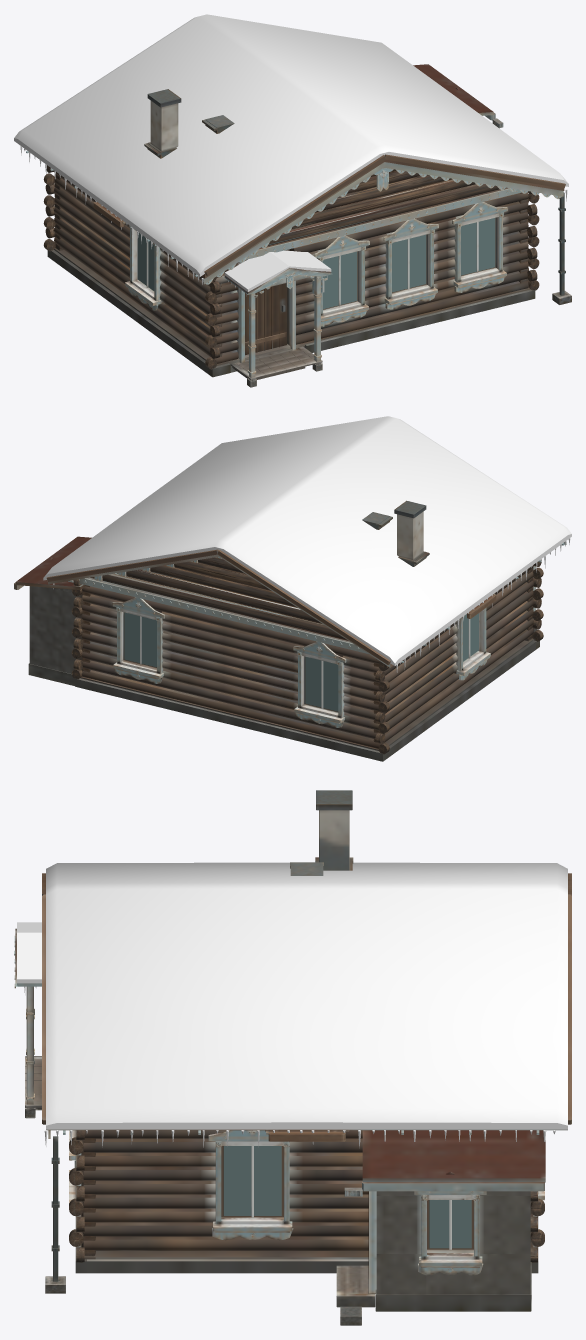
3 views of the same model, one above another, from view 1: azimuth 30°, elevation 25°; view 2: azimuth 150°, elevation 25°; view 3: azimuth 270°, elevation 25° (orthographic). The views are drawn at different scales.
Parts seen in each view (by area): view 1: HeroHouse_RoofSnow_LOD0, HeroHouse_Street_LogCrown, HeroHouse_Left_LogCrown, HeroHouse_PlinthFacing_LOD0, HeroHouse_FrontGableLog00_LOD0, HeroHouse_StreetDoorClosed_LOD0, HeroHouse_FootingCap_LOD0, HeroHouse_PodzorStreet_LOD0, HeroHouse_FrontGableLog01_LOD0, HeroHouse_Street_Window2_Glass_LOD0, HeroHouse_Street_Window3_Glass_LOD0, HeroHouse_Street_Window1_Glass_LOD0 (+21 smaller); view 2: HeroHouse_RoofSnow_LOD0, HeroHouse_Rear_LogCrown, HeroHouse_Left_LogCrown, HeroHouse_PlinthFacing_LOD0, HeroHouse_SeniRear_Wall_LOD0, HeroHouse_BackGableLog00_LOD0, HeroHouse_BackGableLog01_LOD0, HeroHouse_PodzorRear_LOD0, HeroHouse_FootingCap_LOD0, HeroHouse_Rear_Window0_Glass_LOD0, HeroHouse_Rear_Window1_Glass_LOD0, HeroHouse_BackGableLog02_LOD0 (+10 smaller); view 3: HeroHouse_RoofSnow_LOD0, HeroHouse_Right_LogCrown, HeroHouse_SeniOuter_Wall_LOD0, HeroHouse_SeniRoof_LOD0, HeroHouse_PlinthFacing_LOD0, HeroHouse_Right_Window0_Glass_LOD0, HeroHouse_SeniFooting_LOD0, HeroHouse_FootingCap_LOD0, HeroHouse_SeniOuter_Window0_Glass_LOD0, HeroHouse_ChimneyStack_LOD0, HeroHouse_SeniTrough_LOD0, HeroHouse_SeniStep_LOD0 (+9 smaller).
Boxes of the visible parts, x1=… form: HeroHouse_RoofSnow_LOD0: x1=14, y1=14, x2=568, y2=276; HeroHouse_Street_LogCrown: x1=210, y1=187, x2=528, y2=363; HeroHouse_Left_LogCrown: x1=54, y1=170, x2=222, y2=358; HeroHouse_PlinthFacing_LOD0: x1=47, y1=250, x2=535, y2=377; HeroHouse_FrontGableLog00_LOD0: x1=261, y1=184, x2=499, y2=247; HeroHouse_StreetDoorClosed_LOD0: x1=245, y1=283, x2=286, y2=355; HeroHouse_FootingCap_LOD0: x1=54, y1=248, x2=530, y2=365; HeroHouse_PodzorStreet_LOD0: x1=245, y1=188, x2=521, y2=259; HeroHouse_FrontGableLog01_LOD0: x1=291, y1=179, x2=475, y2=229; HeroHouse_Street_Window2_Glass_LOD0: x1=392, y1=234, x2=426, y2=292; HeroHouse_Street_Window3_Glass_LOD0: x1=461, y1=218, x2=495, y2=275; HeroHouse_Street_Window1_Glass_LOD0: x1=323, y1=251, x2=357, y2=309; HeroHouse_RoofSnow_LOD0: x1=43, y1=416, x2=571, y2=665; HeroHouse_Rear_LogCrown: x1=82, y1=577, x2=384, y2=748; HeroHouse_Left_LogCrown: x1=373, y1=564, x2=533, y2=742; HeroHouse_PlinthFacing_LOD0: x1=75, y1=640, x2=539, y2=761; HeroHouse_SeniRear_Wall_LOD0: x1=29, y1=586, x2=82, y2=676; HeroHouse_BackGableLog00_LOD0: x1=102, y1=573, x2=348, y2=640; HeroHouse_BackGableLog01_LOD0: x1=126, y1=569, x2=322, y2=624; HeroHouse_PodzorRear_LOD0: x1=79, y1=578, x2=368, y2=653; HeroHouse_FootingCap_LOD0: x1=80, y1=638, x2=533, y2=750; HeroHouse_Rear_Window0_Glass_LOD0: x1=305, y1=656, x2=338, y2=711; HeroHouse_Rear_Window1_Glass_LOD0: x1=124, y1=612, x2=156, y2=667; HeroHouse_BackGableLog02_LOD0: x1=150, y1=565, x2=297, y2=607; HeroHouse_RoofSnow_LOD0: x1=46, y1=862, x2=567, y2=1129; HeroHouse_Right_LogCrown: x1=83, y1=1130, x2=368, y2=1250; HeroHouse_SeniOuter_Wall_LOD0: x1=376, y1=1191, x2=530, y2=1294; HeroHouse_SeniRoof_LOD0: x1=362, y1=1130, x2=545, y2=1182; HeroHouse_PlinthFacing_LOD0: x1=75, y1=1215, x2=538, y2=1273; HeroHouse_Right_Window0_Glass_LOD0: x1=223, y1=1146, x2=281, y2=1215; HeroHouse_SeniFooting_LOD0: x1=375, y1=1262, x2=531, y2=1311; HeroHouse_FootingCap_LOD0: x1=80, y1=1214, x2=533, y2=1259; HeroHouse_SeniOuter_Window0_Glass_LOD0: x1=429, y1=1200, x2=471, y2=1248; HeroHouse_ChimneyStack_LOD0: x1=319, y1=810, x2=349, y2=870; HeroHouse_SeniTrough_LOD0: x1=362, y1=1181, x2=544, y2=1191; HeroHouse_SeniStep_LOD0: x1=336, y1=1265, x2=375, y2=1307.
Size of the model in its own units: 11.23 by 5.25 by 9.24.
6 materials, 1 textured.
